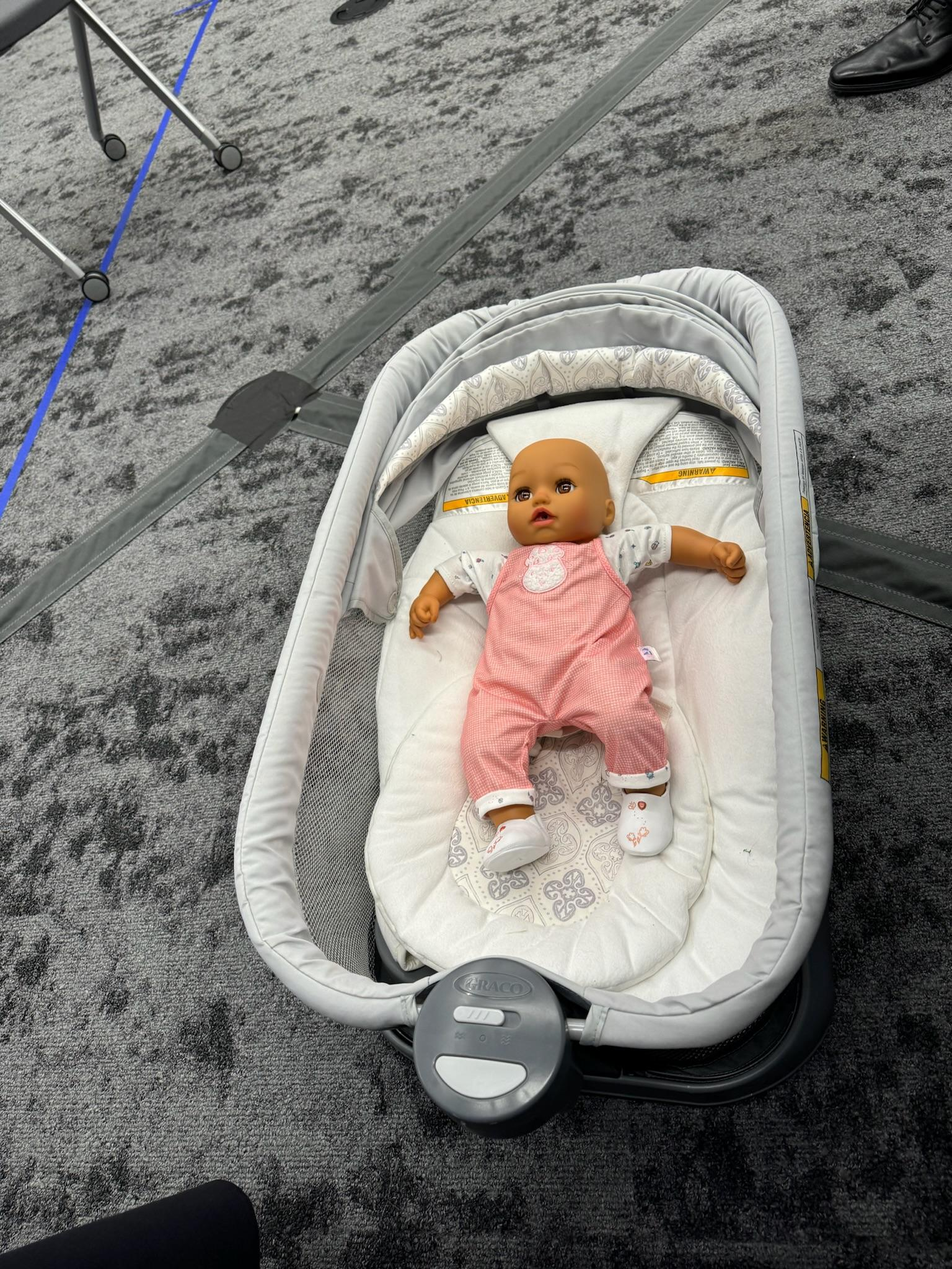baby: (401, 424, 762, 903)
